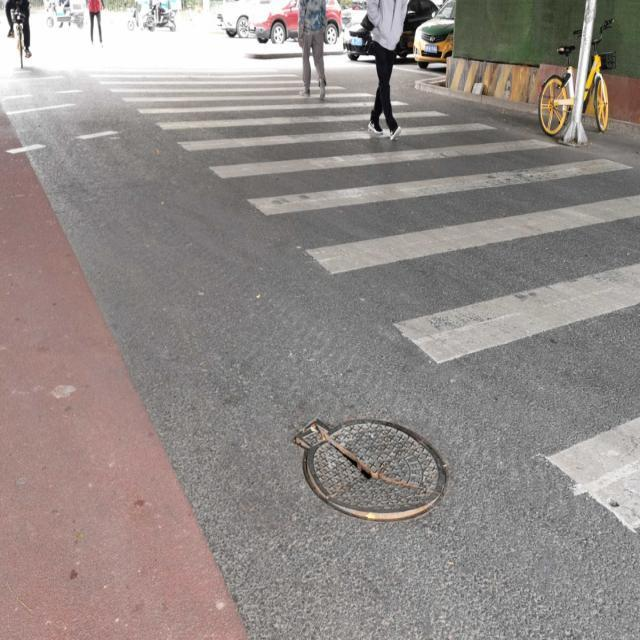manhole: (291, 415, 451, 529)
